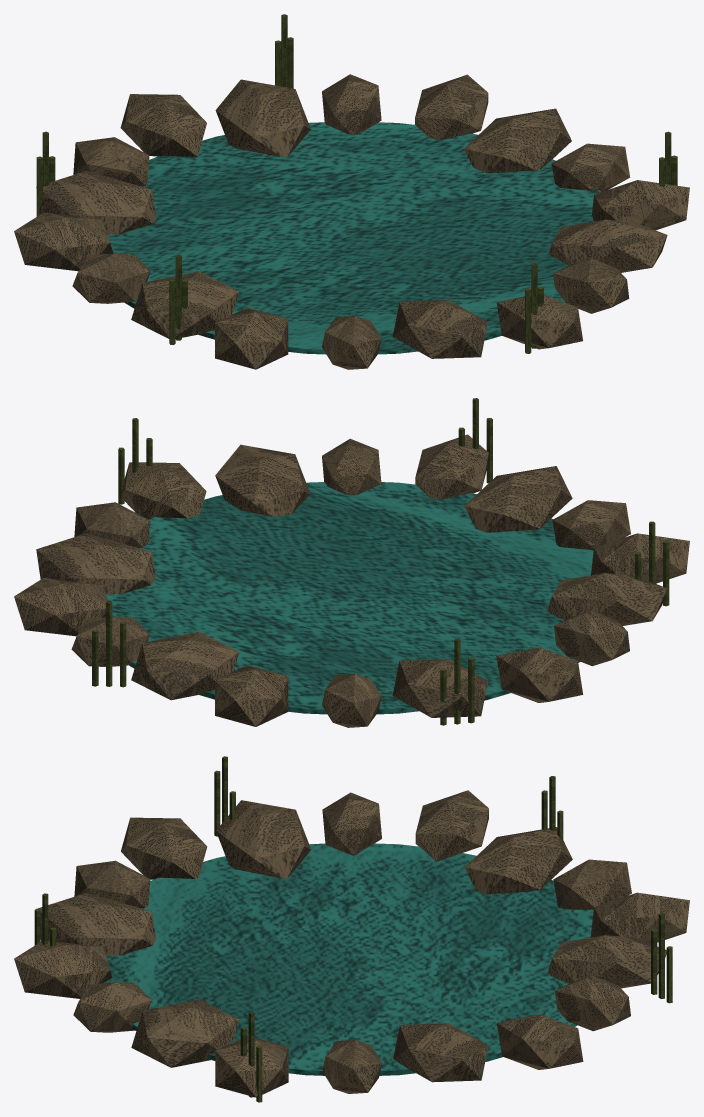
Rendered from isolated_spring.glb.
The picture shows the model from 3 angles, top to bottom: view 1: azimuth 30°, elevation 25°; view 2: azimuth 150°, elevation 25°; view 3: azimuth 270°, elevation 25°; orthographic projection.
Visible parts, largest first — view 1: isolated_spring; view 2: isolated_spring; view 3: isolated_spring.
Part boxes in pixels (x1,y1,x2,y2): isolated_spring: (14,14,689,369); isolated_spring: (14,398,689,727); isolated_spring: (14,756,689,1102).
Size of the model in its own units: 6.67 by 1.19 by 6.97.
Materials: 1 (1 with a texture image).
